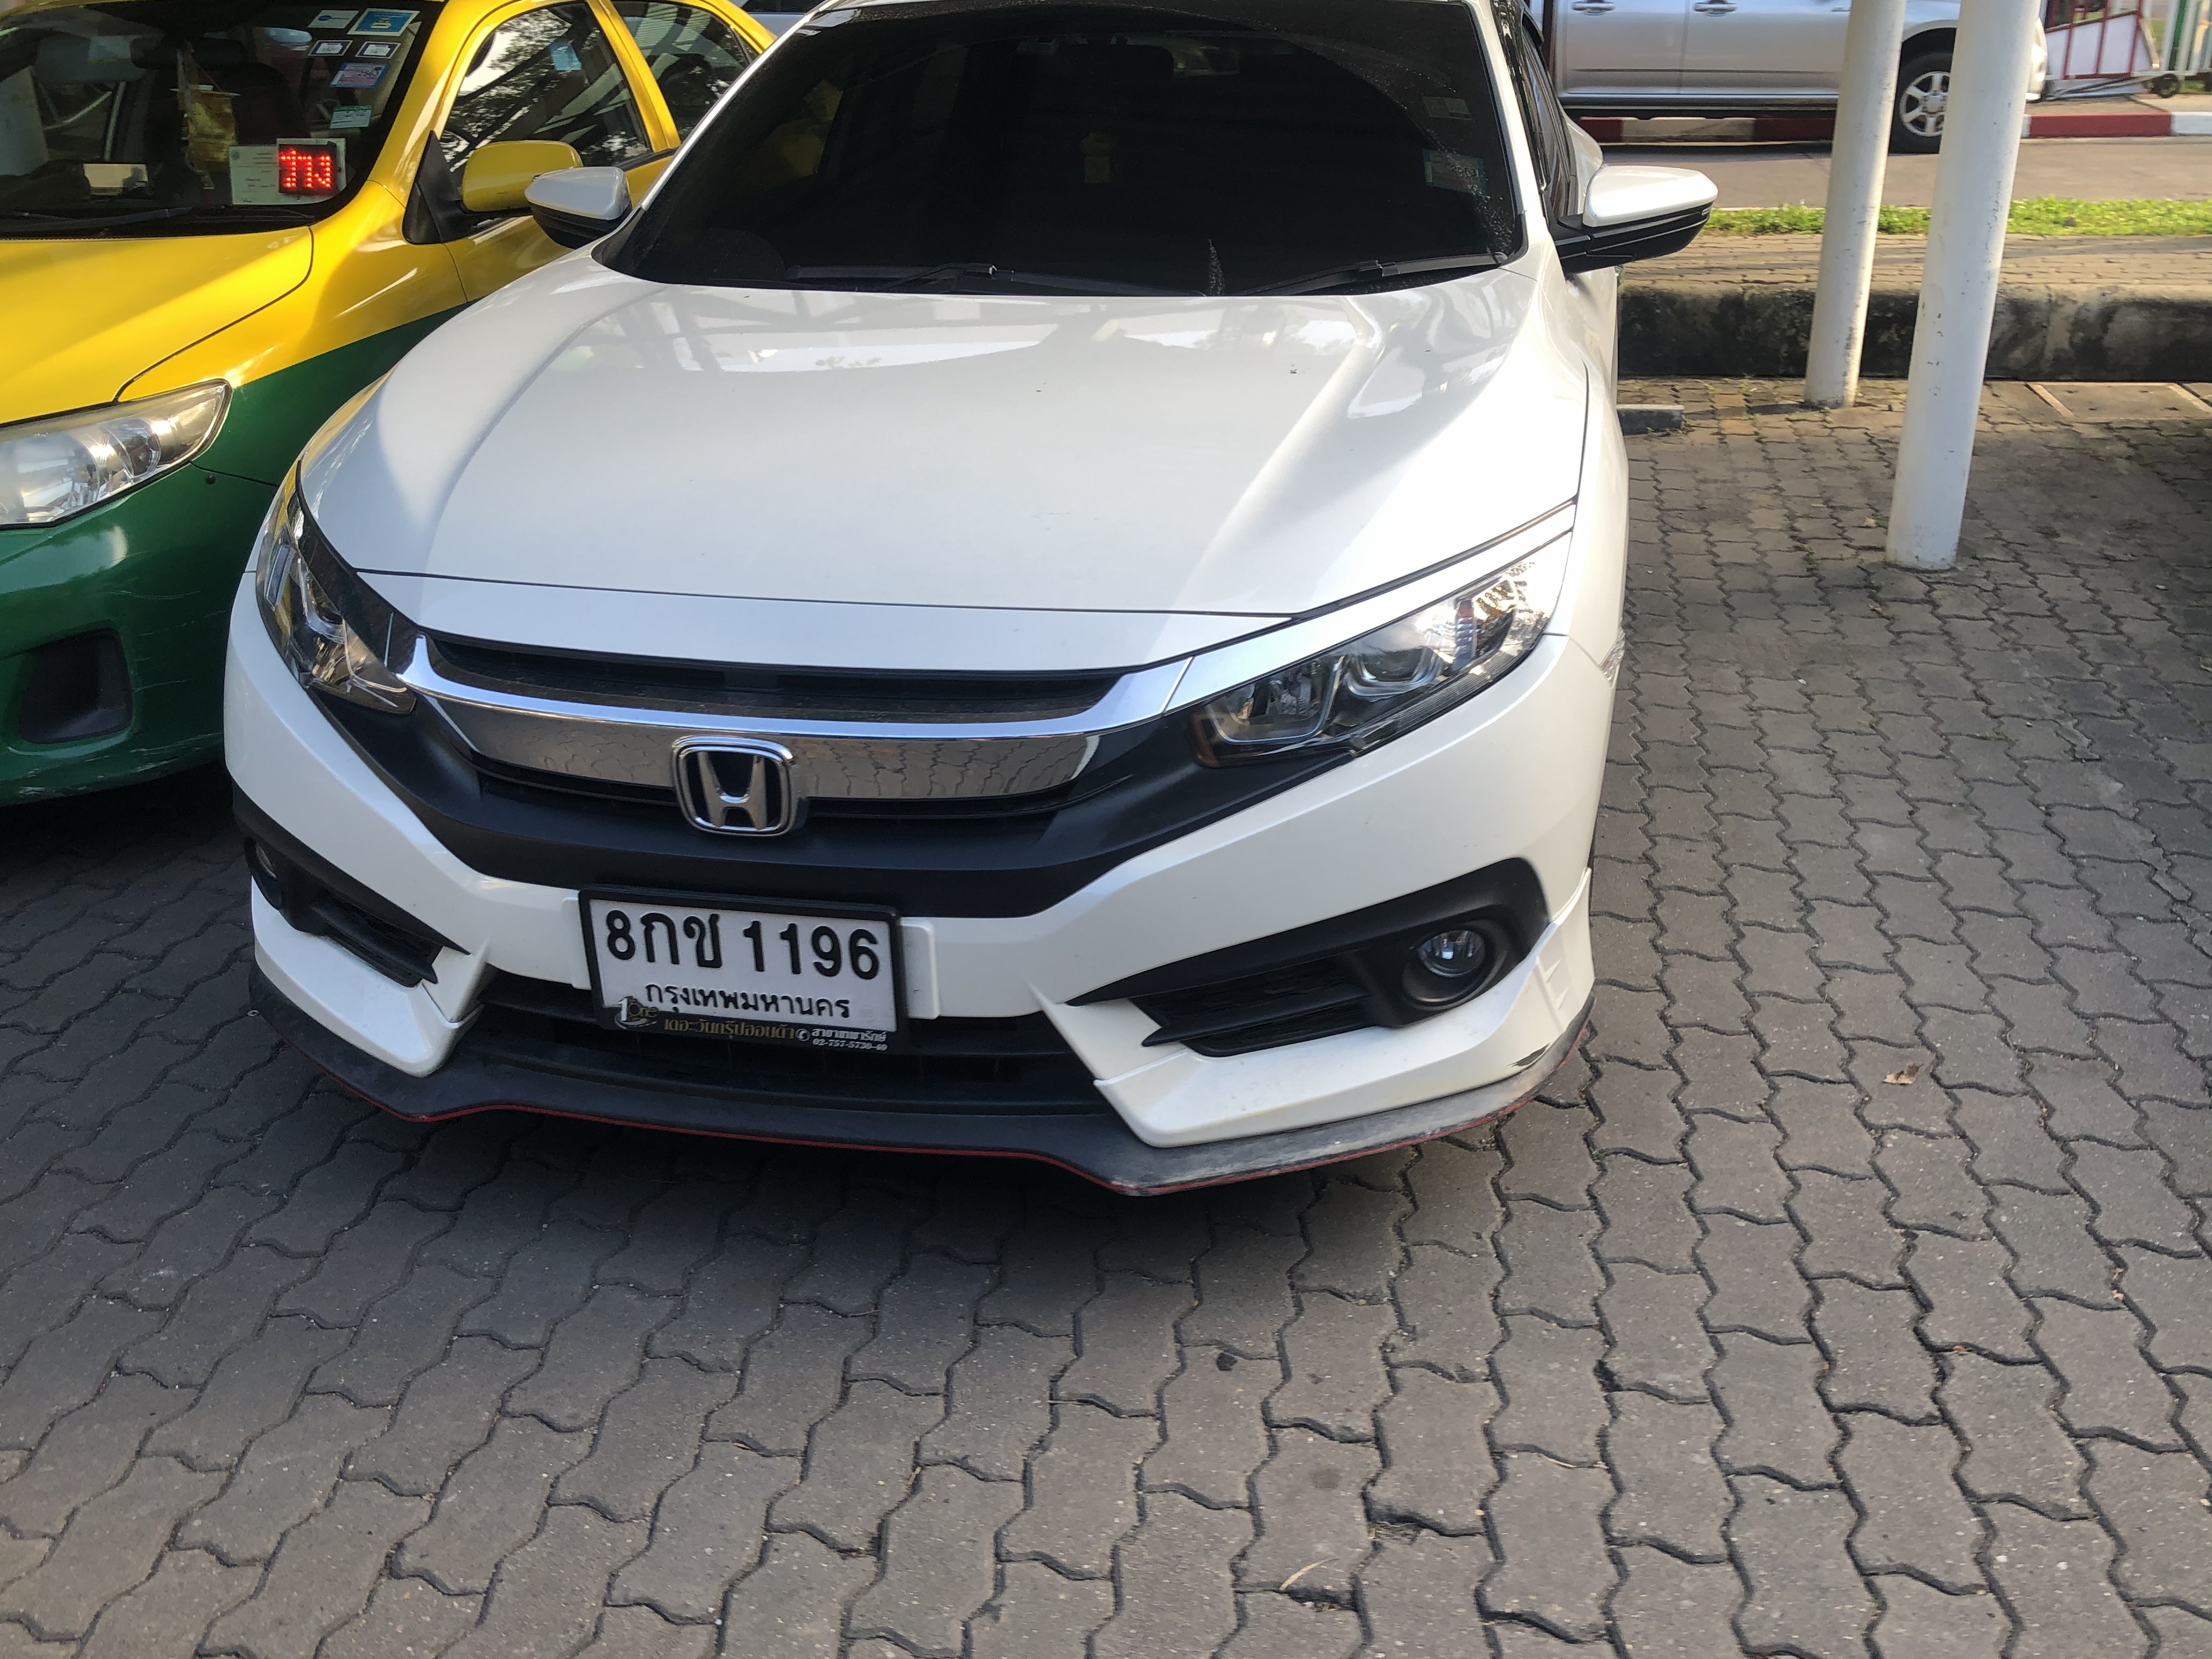in: (589, 897, 900, 1032)
out: (578, 885, 911, 1054)
